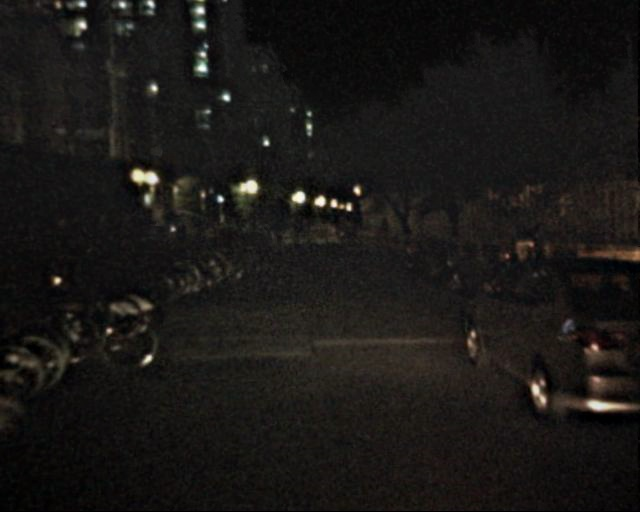person: (237, 214, 272, 240), (150, 217, 167, 258), (286, 210, 303, 251), (174, 214, 190, 253), (190, 215, 206, 253), (270, 214, 285, 251), (378, 216, 393, 253)
